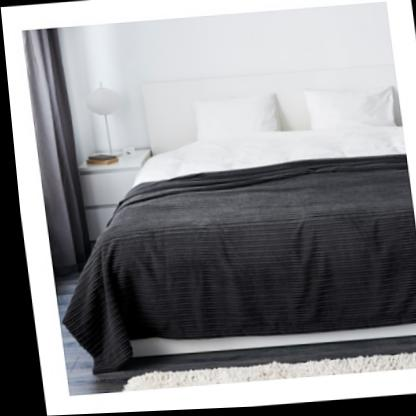Bed: (72, 62, 416, 376)
